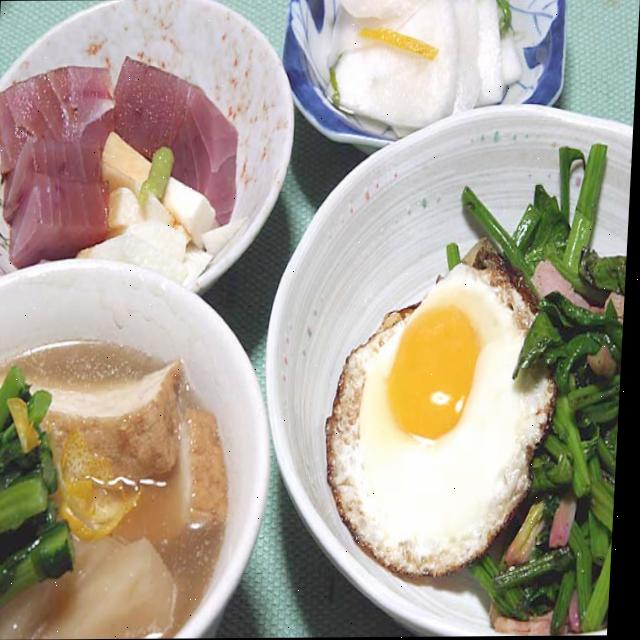鸡蛋料理: (316, 256, 562, 567)
